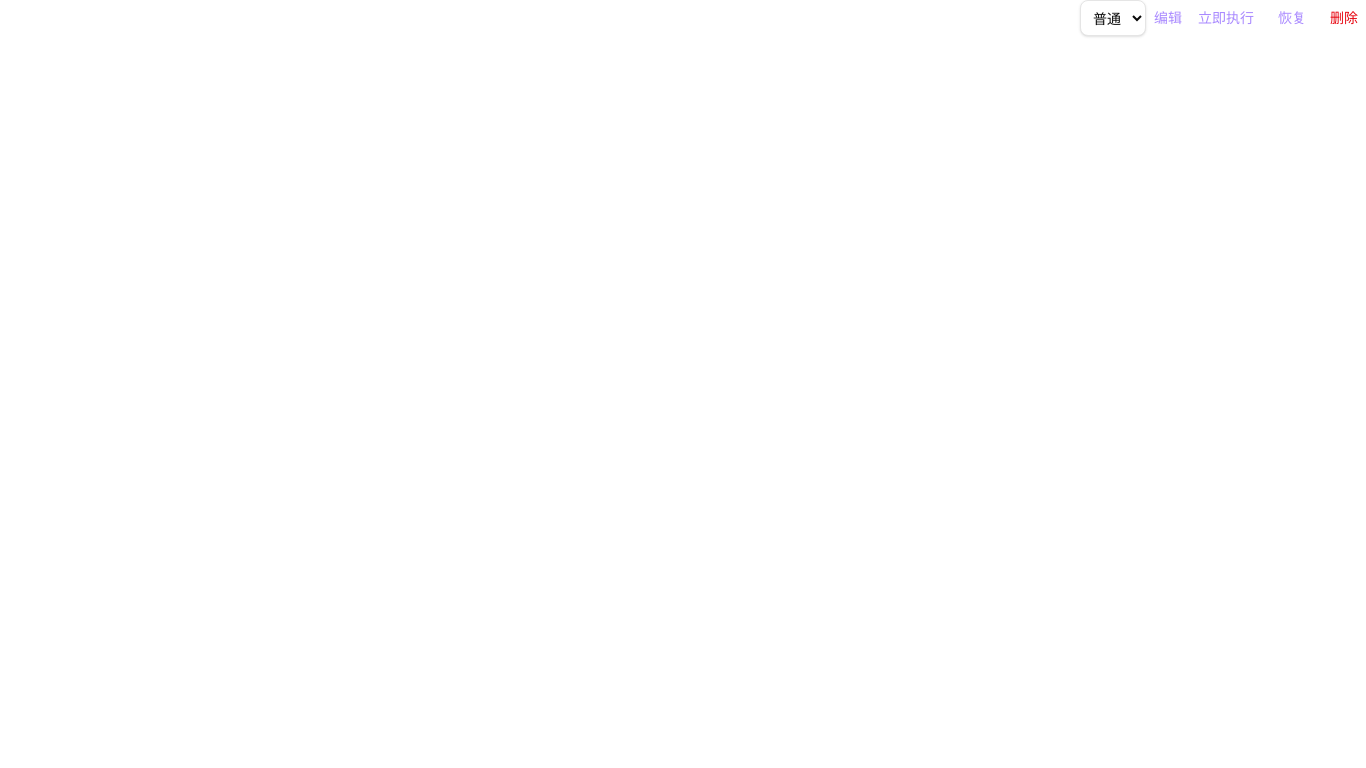
Test: 任务管理 › 删除成功在当前操作区显示反馈
Click the button "删除".
click(1344, 18)  # box [1322,8,1365,28]
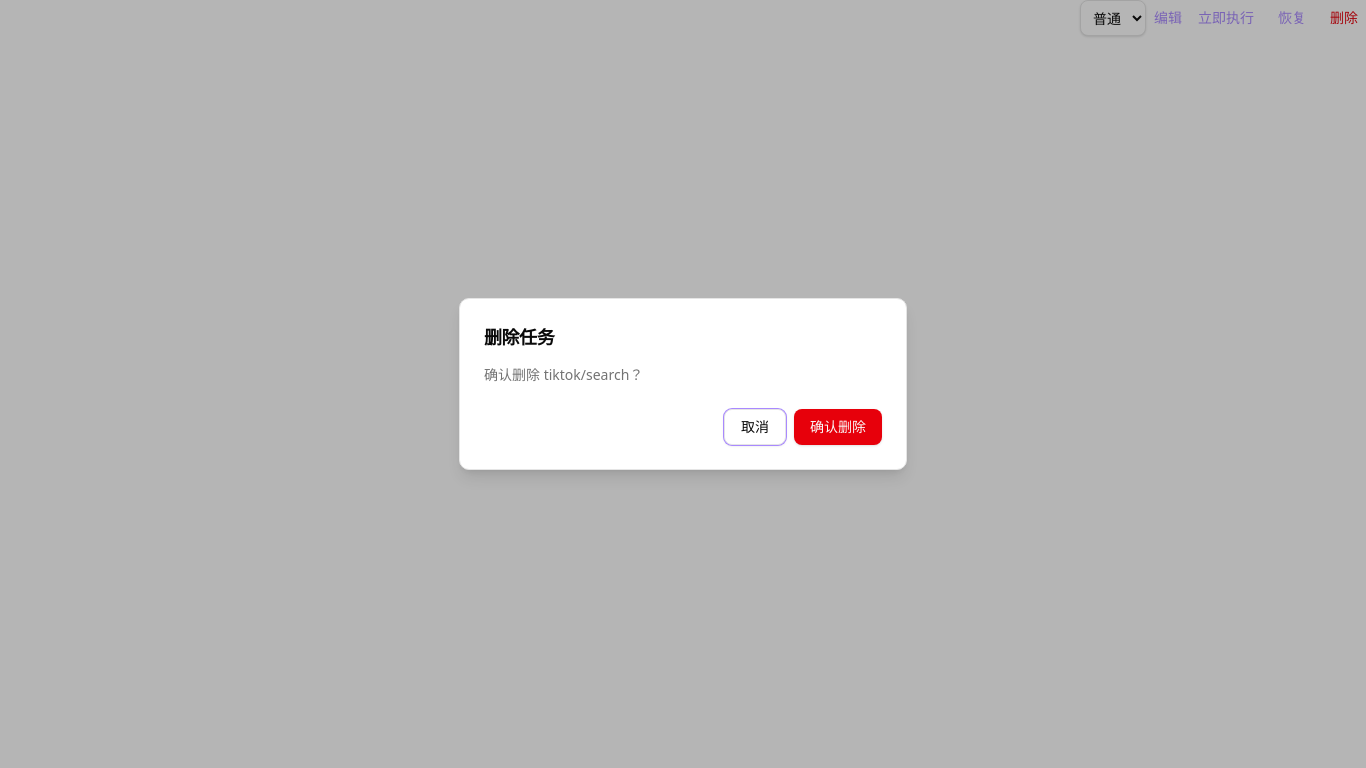
Click the button "确认删除".
click(838, 427)  # box [794,409,882,445]
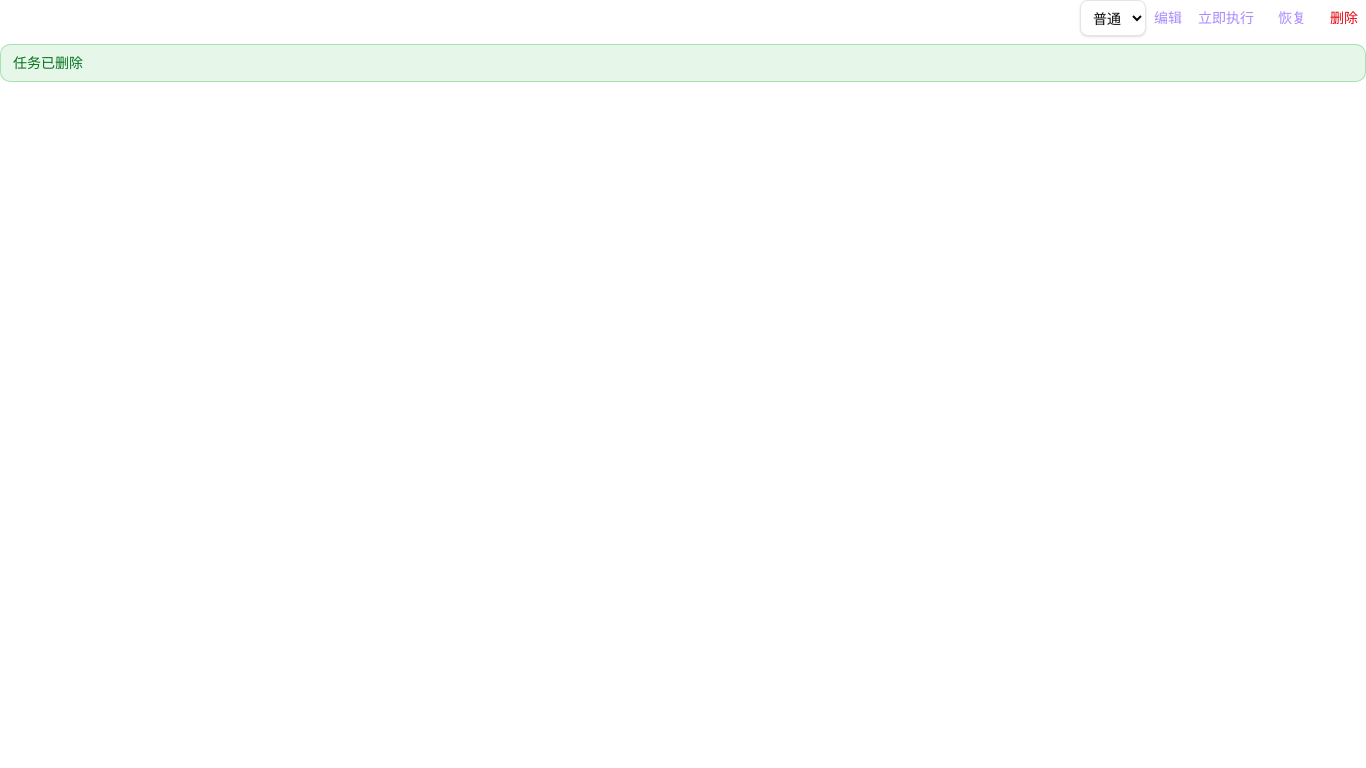
Check: the text "任务已删除" is shown, box [13,53,83,72]
Check: the dialog is gone
